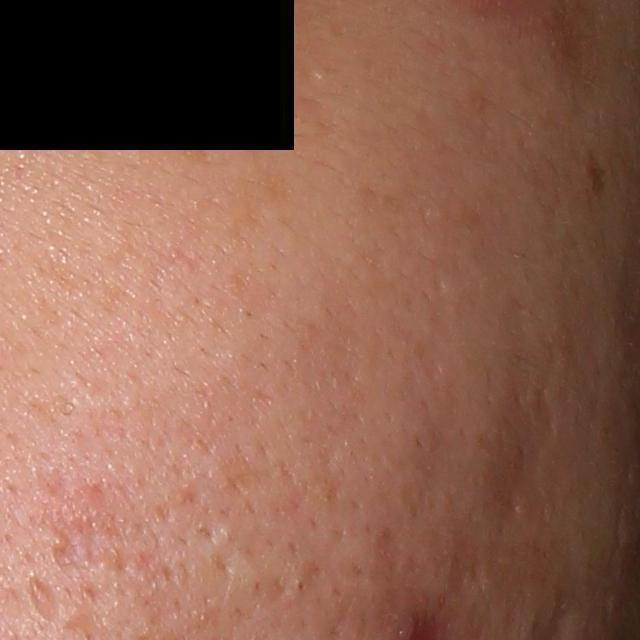atrophic_scar: (479, 413, 559, 525), (170, 121, 225, 168), (24, 573, 62, 624)
comedo: (289, 576, 308, 596)
